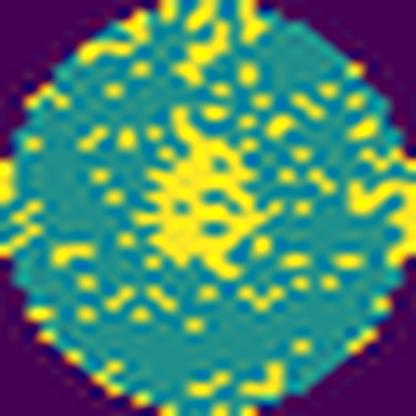Center: (135, 102, 278, 279)
